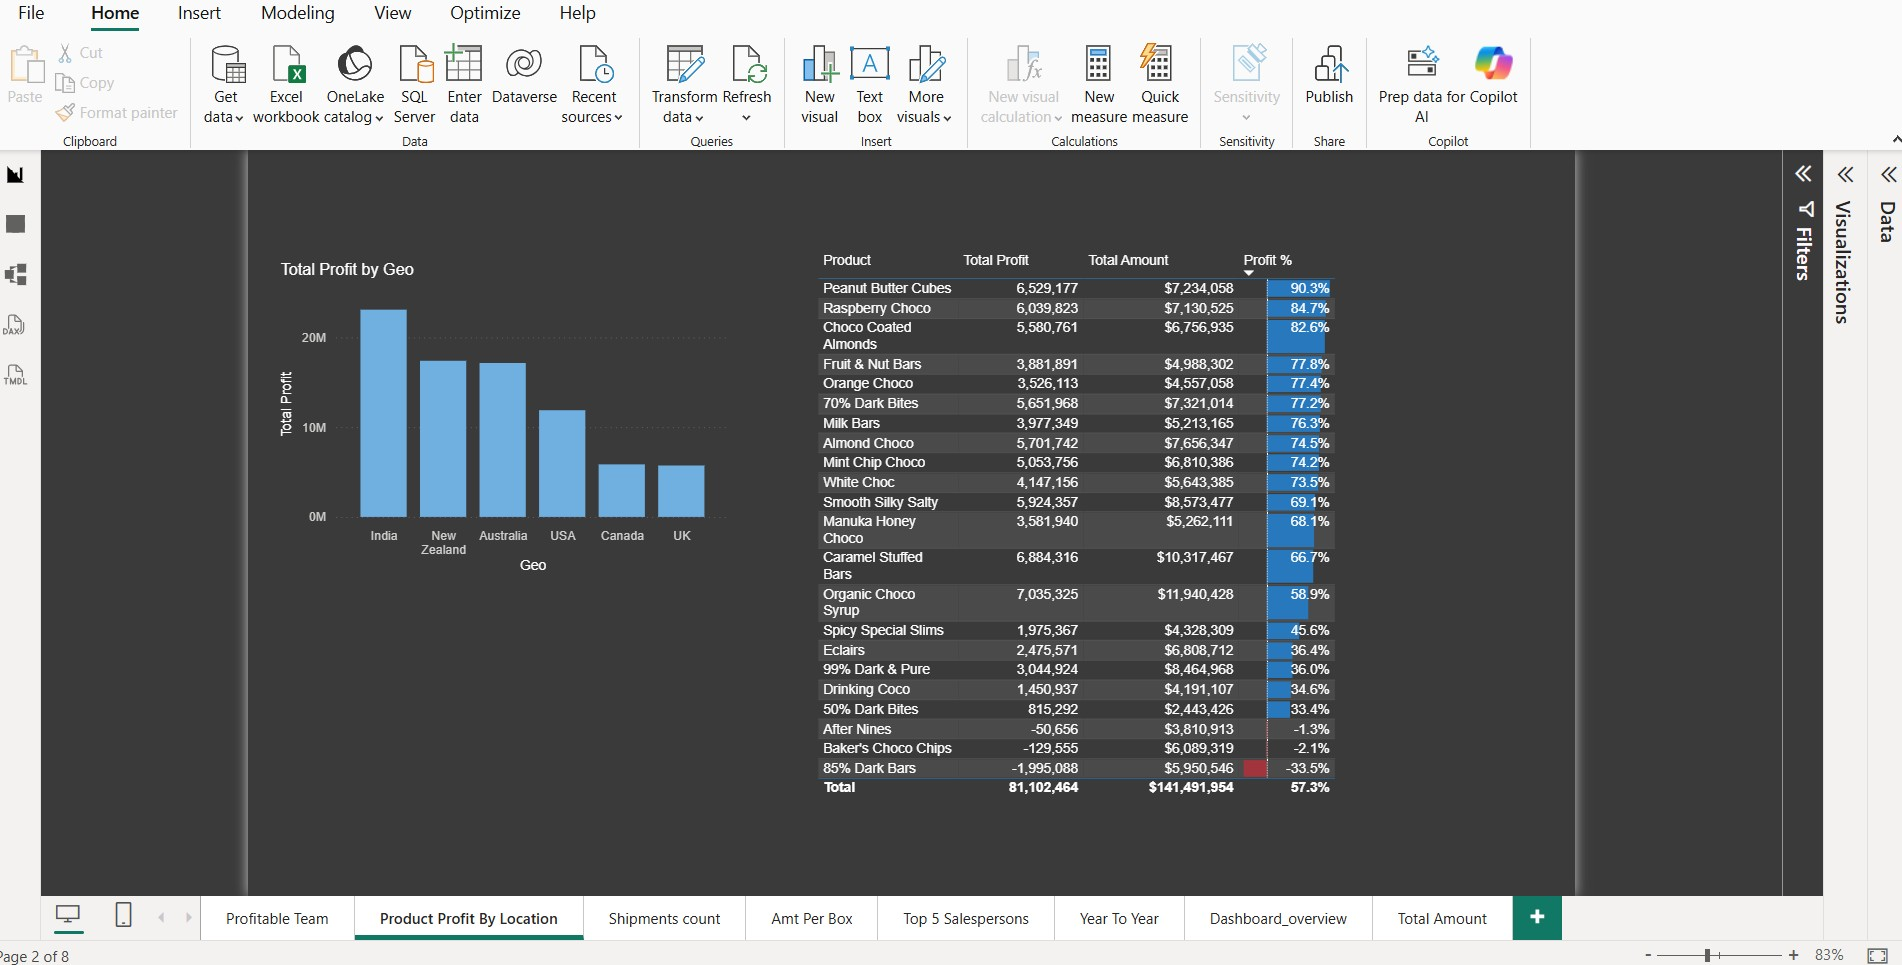

The page's visual inventory and layout, read from the dashboard file:
{"tool":"powerbi","page":{"name":"Product Profit By Location","canvas":[1280,720],"ordinal":1},"visuals":[{"type":"clusteredColumnChart","fields":{"Category":["locations.Geo"],"Y":["shipments.Profit"]},"box":[26.3,106,443.5,307.4],"z":0},{"type":"tableEx","fields":{"Values":["products.Product","shipments.Profit","shipments.Total Amount","shipments.Profit %"]},"box":[543.7,93.4,520.4,598.2],"z":1000}]}

Visuals, with their boxes on the page's 1280x720 design canvas (x1, y1, x2, y2). These are canvas units, not pixel positions in the 1902x965 screenshot, which may show the page scaled, cropped or inside an application window:
clusteredColumnChart - locations.Geo x shipments.Profit: 26/106/470/413
tableEx - products.Product x shipments.Profit: 544/93/1064/692
